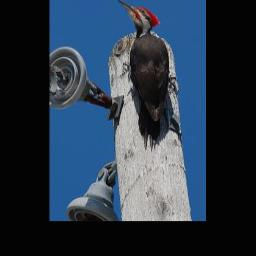Woodpecker: (113, 0, 182, 149)
